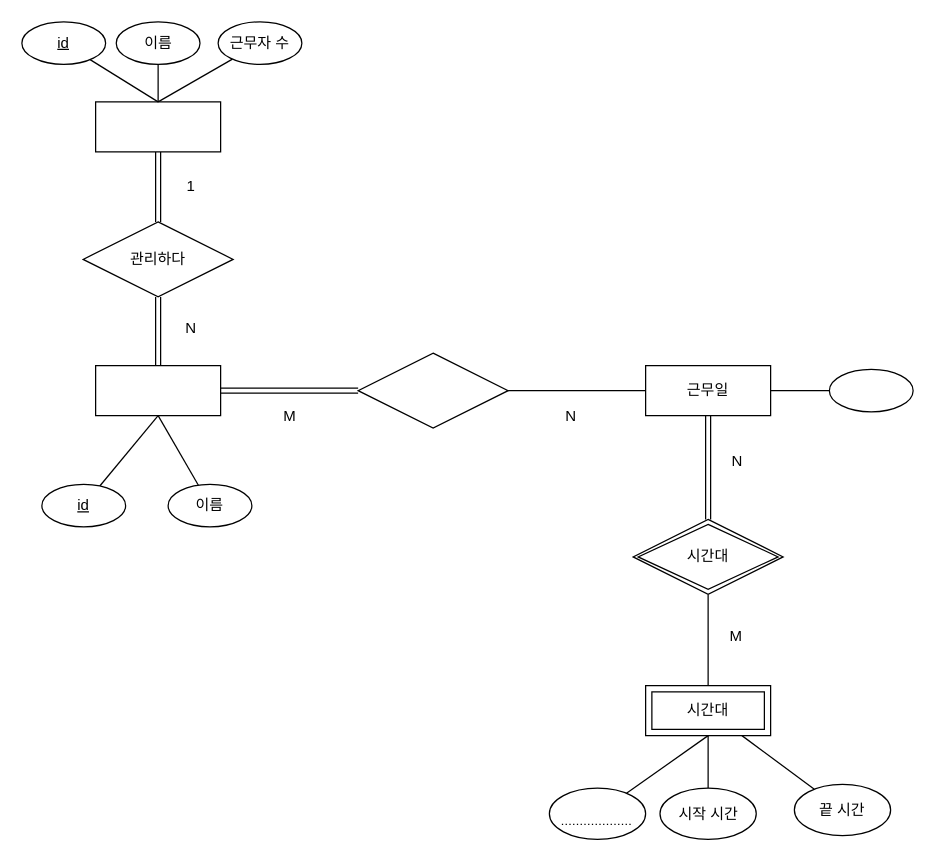
Some shapes in this 935 by 861 pixel diagram are drawn without their labels. Here are the shapes that lost their labels. From the top down, the centre of each, then its label:
the point at 157,126: 관리자
the point at 157,390: 근무자
the point at 432,390: 할당되다
the point at 870,390: 요일
the point at 597,813: 번호
